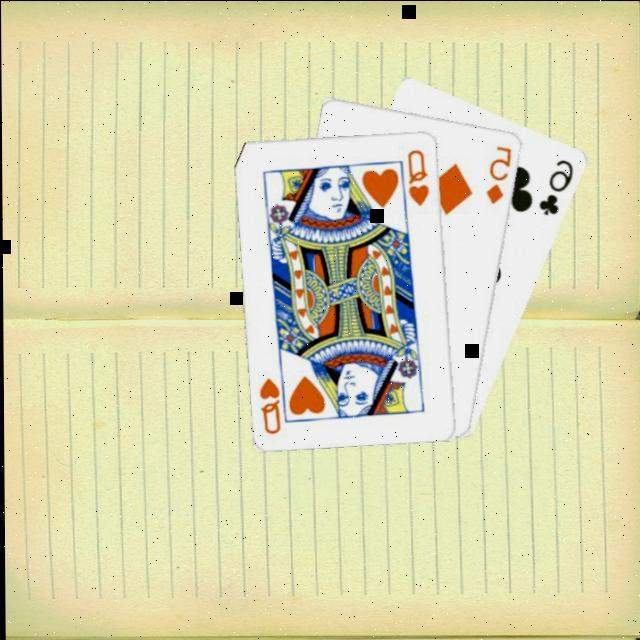5D: (484, 140, 516, 204)
6C: (536, 154, 578, 216)
QH: (257, 364, 291, 434), (406, 144, 433, 206)
